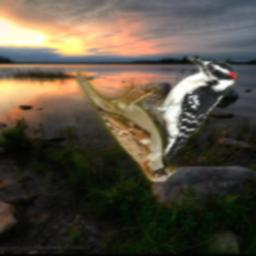Sparrow: (76, 71, 177, 182)
Woodpecker: (129, 58, 238, 161)
